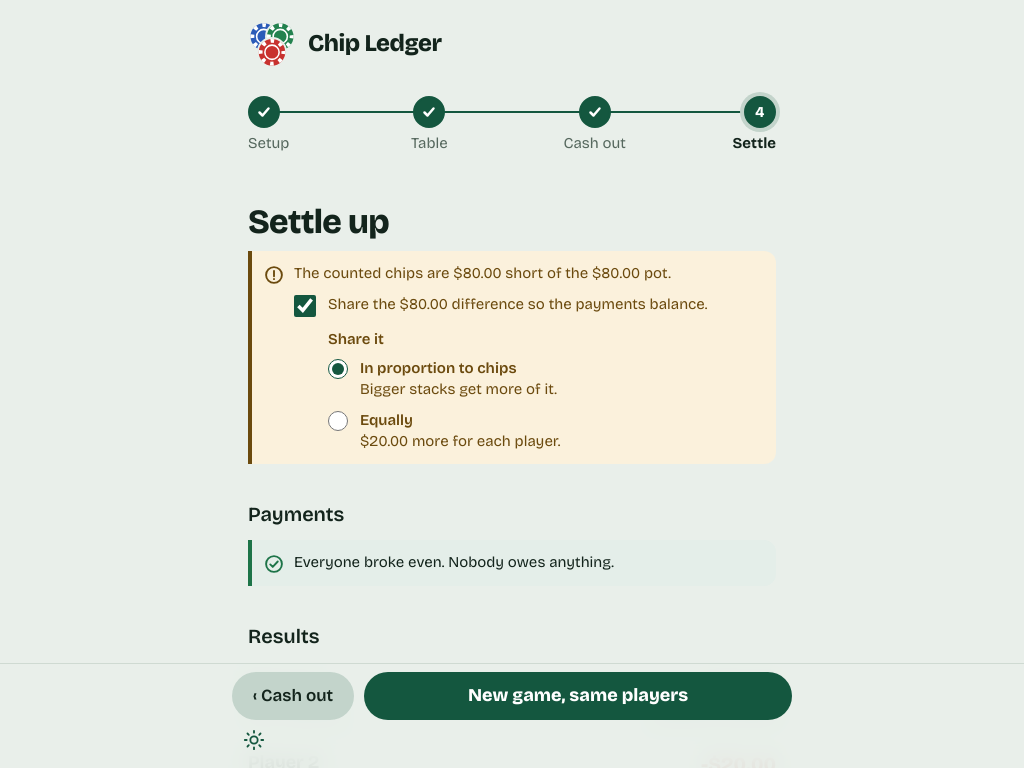
Test case: ChipLedgerApp › AC-0001-19: the theme button cycles, applies, saves, and survives Start over
The image size is (1024, 768).
Step 1. Click the button named "Theme: Light" → (254, 740), box [232,718,276,762]
(page scrolled)
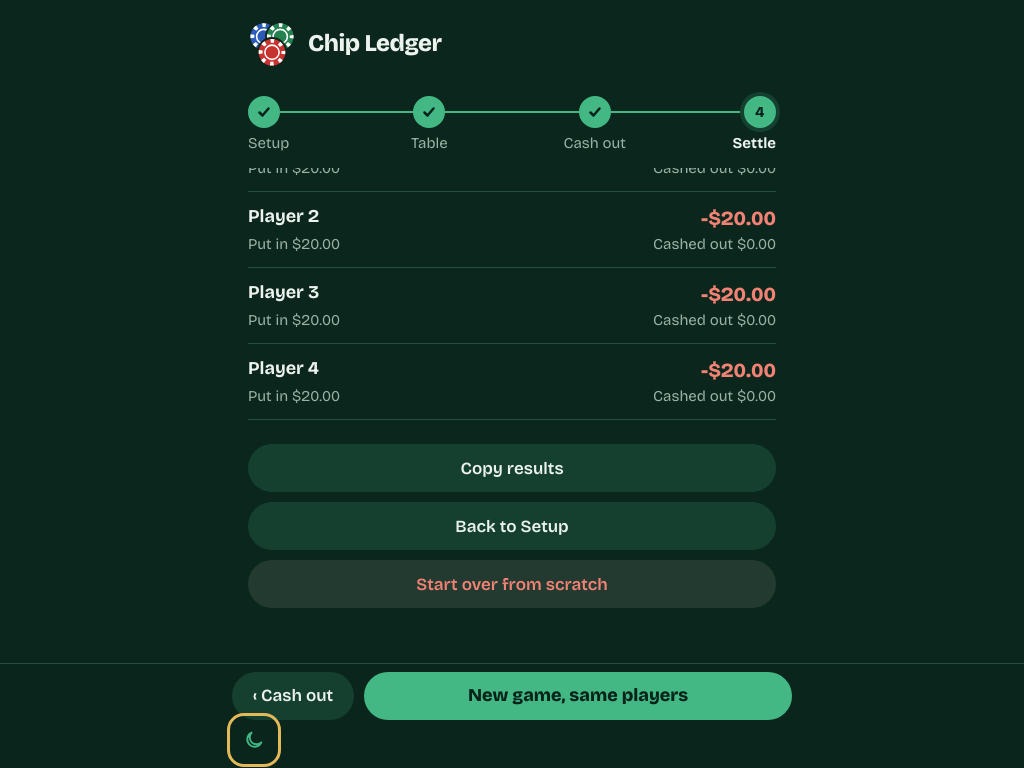
Expected: the button named "Theme: Dark" is shown, [232,718,276,762]
Step 2. Click the button "Start over from scratch" → (512, 584), box [248,560,776,608]
(page scrolled)
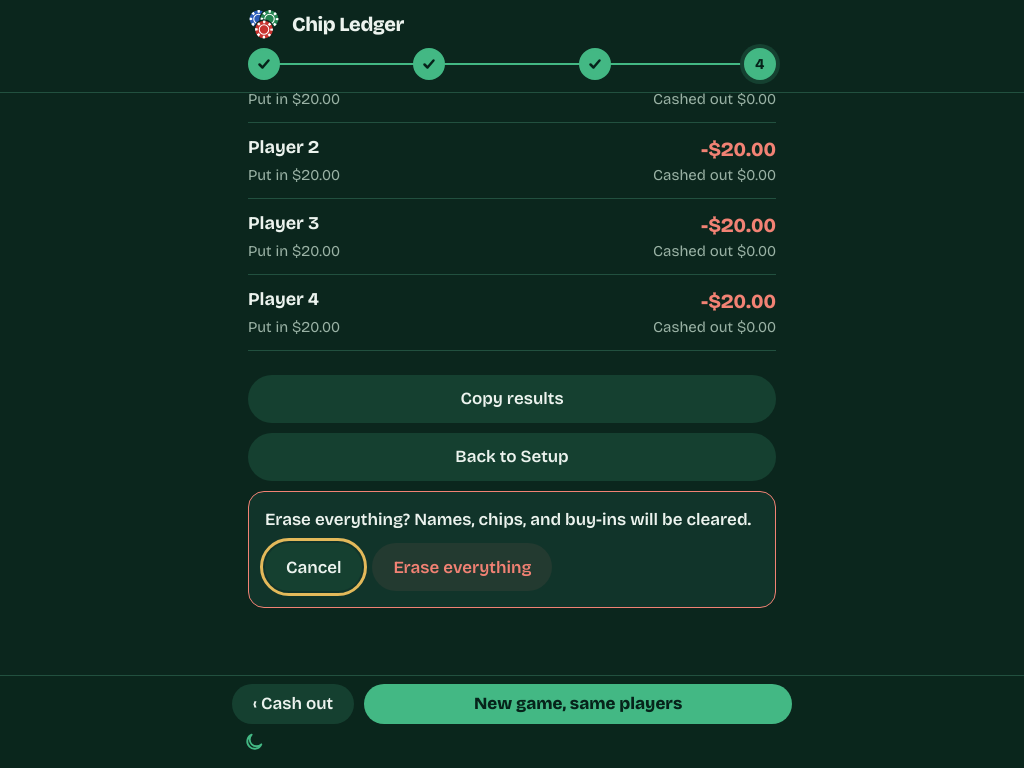
Step 3. Click the button "Erase everything" → (462, 568), box [372,544,552,592]
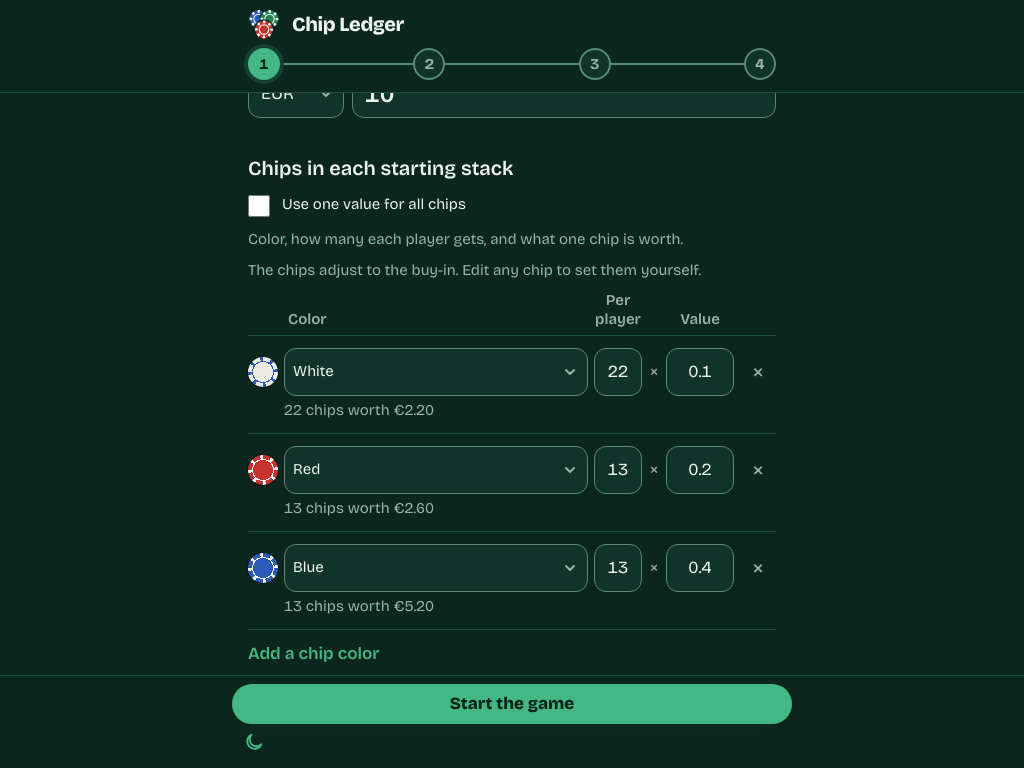
Expected: the button named "Theme: Dark" is shown
Step 4. Click the button named "Theme: Dark" → (254, 742), box [232,720,276,764]
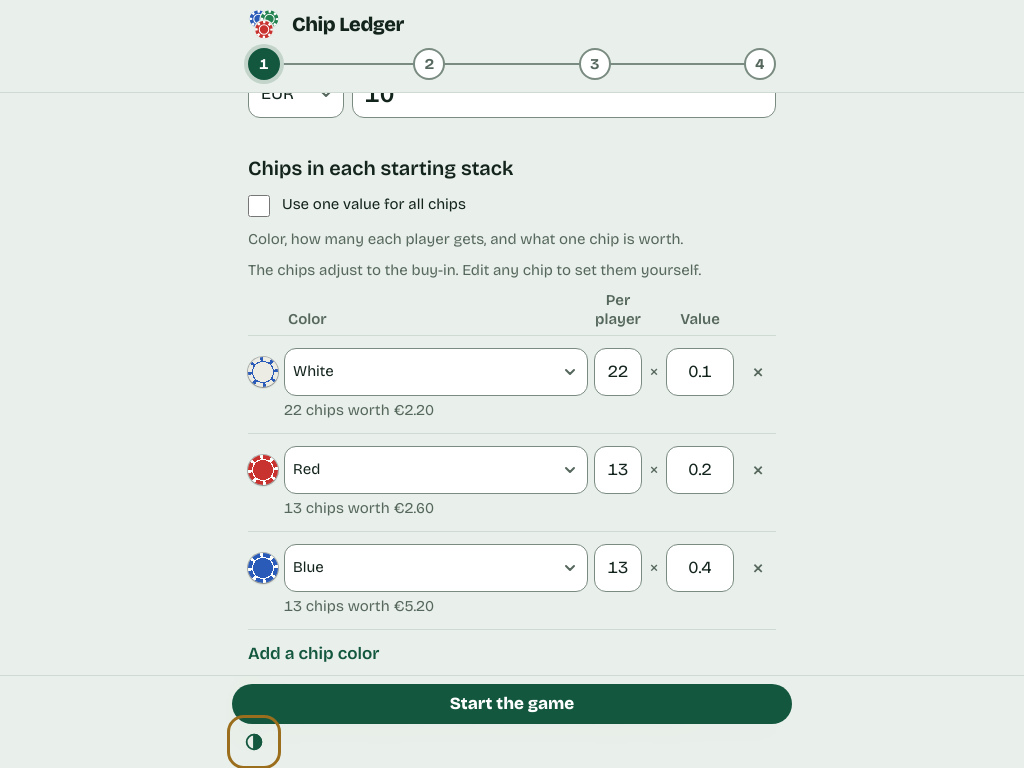
Expected: the button named "Theme: System" is shown, [232,720,276,764]
